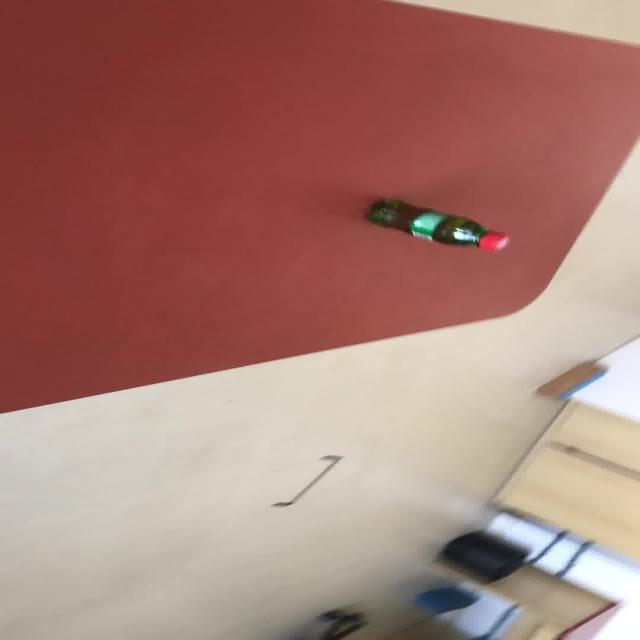guarana: (363, 196, 509, 251)
